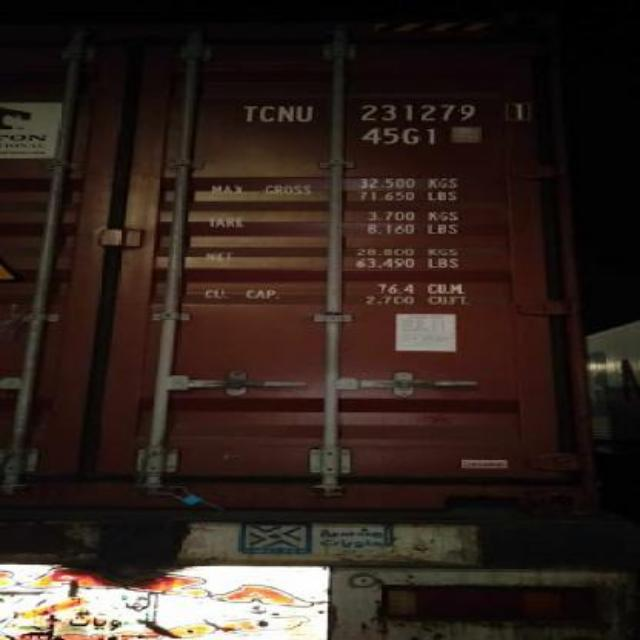1: (510, 100, 530, 124), (400, 100, 416, 124)
2: (414, 100, 434, 124), (360, 100, 378, 124)
3: (378, 100, 398, 124)
7: (434, 98, 456, 126)
9: (458, 98, 478, 126)
C: (260, 100, 274, 130)
N: (274, 100, 296, 130)
T: (228, 101, 260, 125)
U: (294, 100, 316, 132)
